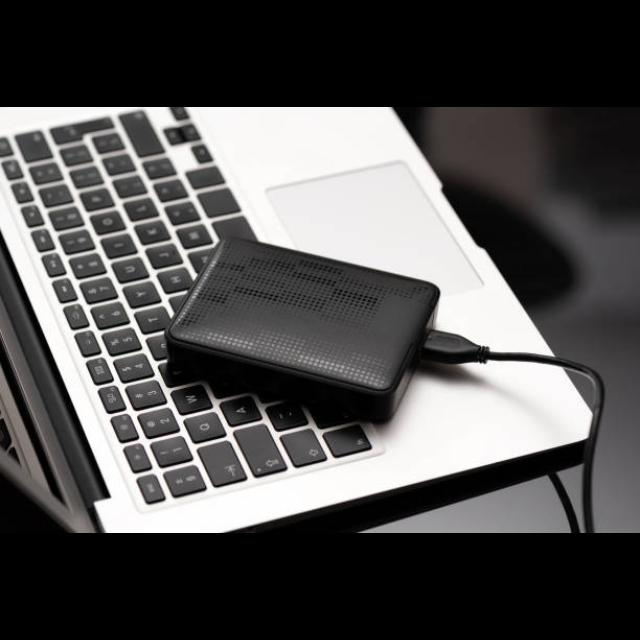HDD: (166, 238, 440, 423)
